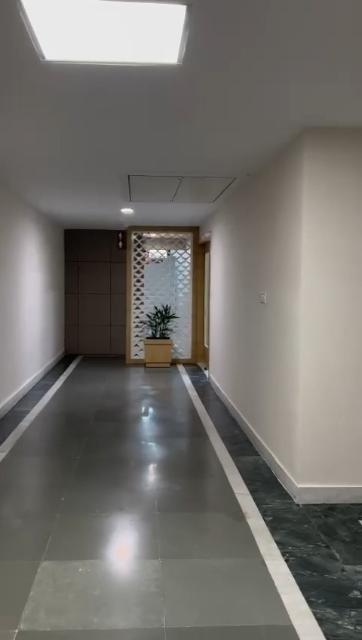door: (196, 245, 209, 362)
floor: (0, 353, 362, 640)
object: (143, 304, 176, 370)
wall: (214, 127, 306, 479), (298, 128, 362, 482), (2, 175, 66, 402)
